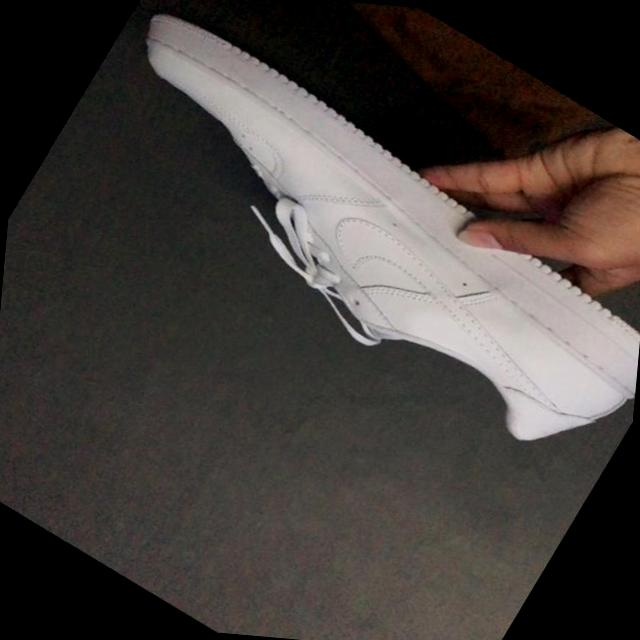nike_fake_airforce: (24, 0, 640, 494)
